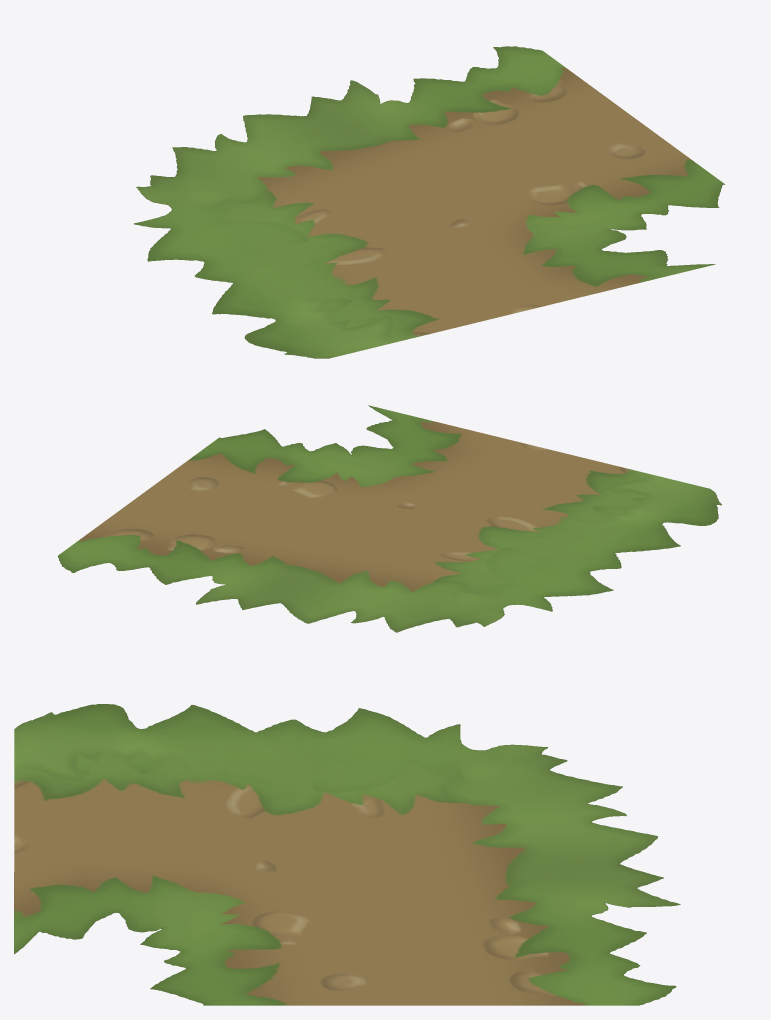
Rendered from RoadCorner.fbx.
3 views of the same model, one above another, from view 1: azimuth 30°, elevation 25°; view 2: azimuth 150°, elevation 25°; view 3: azimuth 270°, elevation 25° (orthographic). The views are drawn at different scales.
Parts seen in each view (by area): view 1: ModelRoadCorner; view 2: ModelRoadCorner; view 3: ModelRoadCorner.
Part boxes in pixels (x1,y1,x2,y2): ModelRoadCorner: (134,46,725,358); ModelRoadCorner: (58,405,721,632); ModelRoadCorner: (14,704,680,1005).
Size of the model in its own units: 400 by 0.000161 by 408.
Materials: 1 (1 with a texture image).
